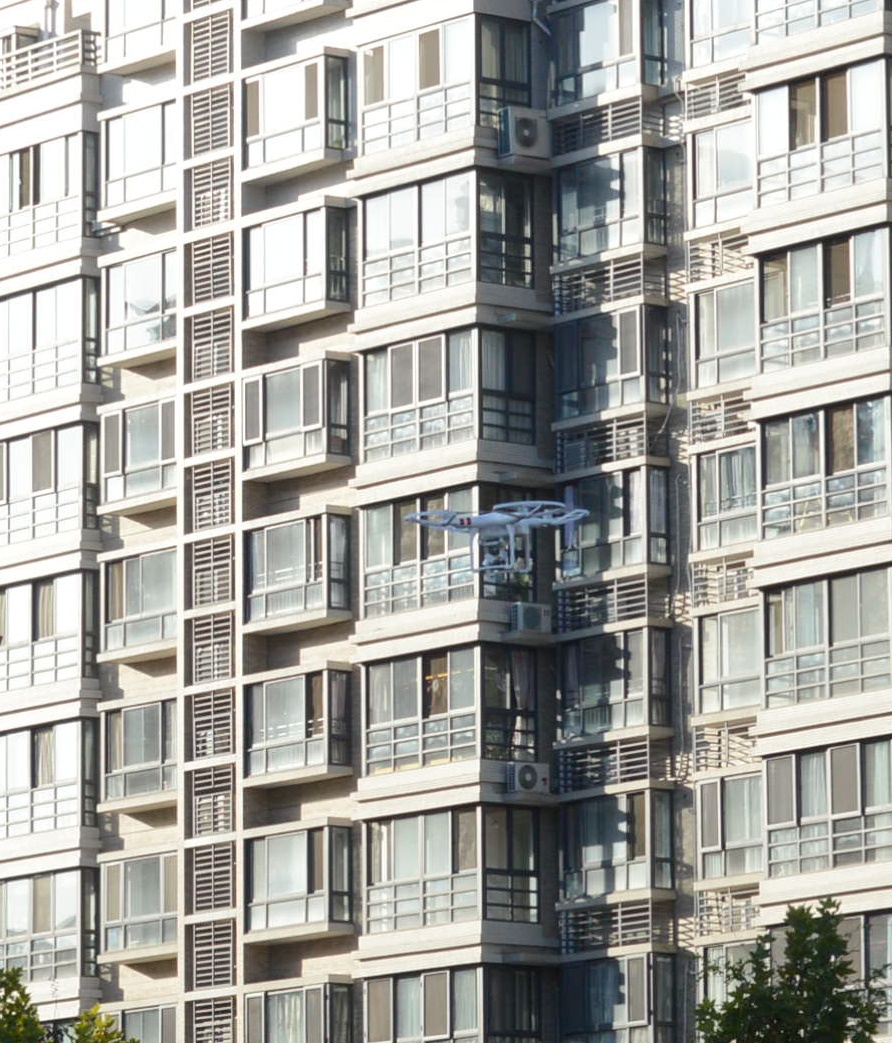DJI: (403, 495, 589, 579)
